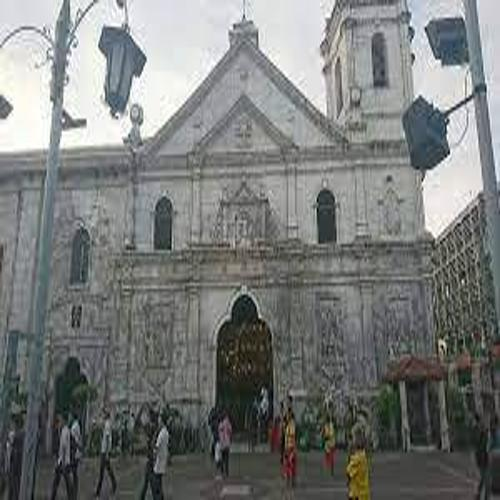Sto. Nino Basilica Church: (112, 2, 462, 459)
